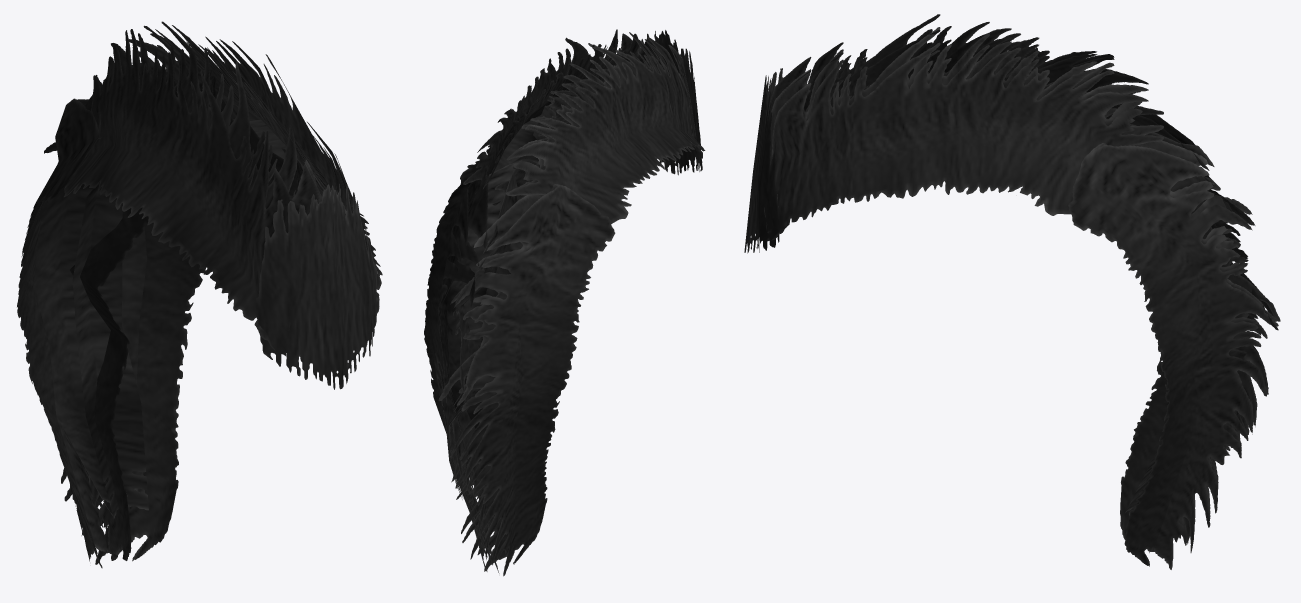
Rendered from hair_014.fbx.
3 renders of one model, left to right at view 1: azimuth 30°, elevation 25°; view 2: azimuth 150°, elevation 25°; view 3: azimuth 270°, elevation 25°, orthographic. The views are drawn at different scales.
Parts seen in each view (by area): view 1: hair_014; view 2: hair_014; view 3: hair_014.
Boxes of the visible parts, x1,y1,x2,y2 form: hair_014: (17,21,382,568); hair_014: (424,29,705,576); hair_014: (744,14,1280,569).
Size of the model in its own units: 11 by 28.06 by 24.95.
